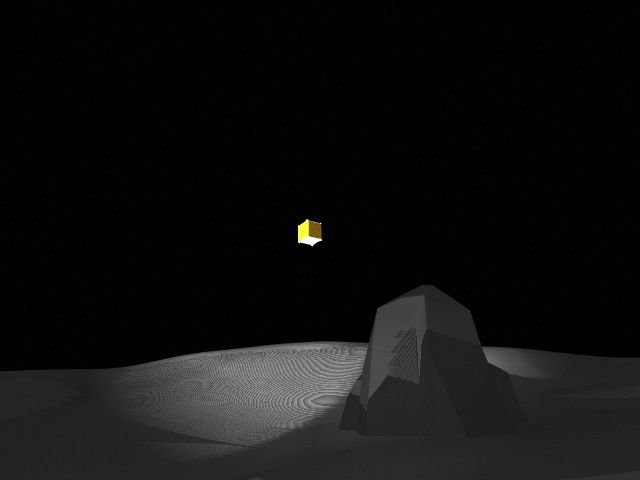cubesat: (295, 215, 323, 250)
